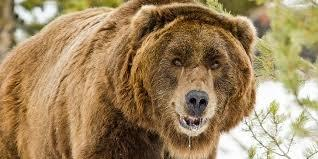bear: (0, 0, 258, 159)
